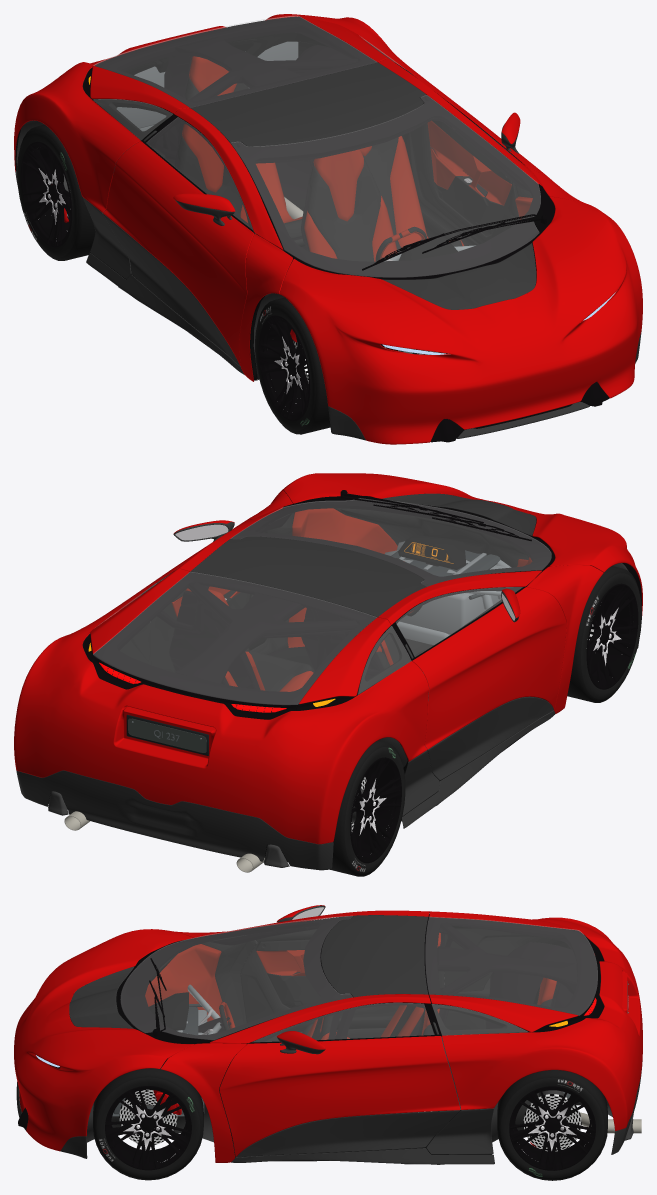
Rendered from coupe.glb.
The picture shows the model from 3 angles, top to bottom: view 1: azimuth 30°, elevation 25°; view 2: azimuth 150°, elevation 25°; view 3: azimuth 270°, elevation 25°; orthographic projection. The views are drawn at different scales.
Visible parts, largest first — view 1: glass_BodyWindshield, panel_hood.001, panel_bumper_front, glass_BodyRearwindow, panel_BodyDoorRColor1, panel_BodyRoofPanel, BodyWindshieldGasket, panel_rear_quarter_L, InteriorSeatsColor1, panel_front_fender_L, panel_BodyPillars, InteriorSeatsColor2 (+29 smaller); view 2: glass_BodyRearwindow, panel_rear_quarter_L, panel_BodyPanelsColor2, glass_BodyWindshield, panel_BodyDoorRColor1, panel_rear_quarter_R, panel_bumper_rear.001, panel_BodyRoofPanel, InteriorRearHatch, panel_BodyPillars, InteriorPillar, BodyWindshieldGasket (+29 smaller); view 3: glass_BodyWindshield, panel_BodyDoorLColor1, panel_rear_quarter_R, glass_BodyRearwindow, panel_BodyRoofPanel, panel_hood.001, panel_BodyPillars, panel_BodyDoorLColor2, BodyWindshieldGasket, panel_BodyPanelsColor2, panel_front_fender_R, WheelFrontLRim (+29 smaller).
Boxes of the visible parts, x1=… form: glass_BodyWindshield: x1=230, y1=95, x2=540, y2=277; panel_hood.001: x1=339, y1=220, x2=624, y2=390; panel_bumper_front: x1=323, y1=302, x2=642, y2=444; glass_BodyRearwindow: x1=93, y1=16, x2=376, y2=107; panel_BodyDoorRColor1: x1=103, y1=141, x2=253, y2=365; panel_BodyRoofPanel: x1=191, y1=62, x2=425, y2=146; BodyWindshieldGasket: x1=231, y1=96, x2=555, y2=279; panel_rear_quarter_L: x1=16, y1=36, x2=189, y2=193; InteriorSeatsColor1: x1=182, y1=56, x2=463, y2=261; panel_front_fender_L: x1=279, y1=259, x2=407, y2=390; panel_BodyPillars: x1=174, y1=58, x2=589, y2=381; InteriorSeatsColor2: x1=177, y1=77, x2=462, y2=261; glass_BodyRearwindow: x1=93, y1=572, x2=376, y2=704; panel_rear_quarter_L: x1=159, y1=617, x2=429, y2=801; panel_BodyPanelsColor2: x1=16, y1=642, x2=638, y2=870; glass_BodyWindshield: x1=231, y1=498, x2=551, y2=586; panel_BodyDoorRColor1: x1=412, y1=587, x2=566, y2=749; panel_rear_quarter_R: x1=16, y1=568, x2=189, y2=767; panel_bumper_rear.001: x1=14, y1=716, x2=427, y2=844; panel_BodyRoofPanel: x1=190, y1=536, x2=425, y2=617; InteriorRearHatch: x1=94, y1=572, x2=389, y2=709; panel_BodyPillars: x1=178, y1=490, x2=603, y2=713; InteriorPillar: x1=175, y1=573, x2=420, y2=683; BodyWindshieldGasket: x1=232, y1=498, x2=555, y2=586; glass_BodyWindshield: x1=120, y1=916, x2=352, y2=1039; panel_BodyDoorLColor1: x1=219, y1=1036, x2=460, y2=1156; panel_rear_quarter_R: x1=429, y1=978, x2=641, y2=1093; glass_BodyRearwindow: x1=425, y1=917, x2=597, y2=1015; panel_BodyRoofPanel: x1=321, y1=915, x2=428, y2=997; panel_hood.001: x1=15, y1=948, x2=157, y2=1091; panel_BodyPillars: x1=161, y1=910, x2=430, y2=1162; panel_BodyDoorLColor2: x1=236, y1=1110, x2=460, y2=1157; BodyWindshieldGasket: x1=116, y1=916, x2=352, y2=1044; panel_BodyPanelsColor2: x1=16, y1=1061, x2=642, y2=1164; panel_front_fender_R: x1=33, y1=1038, x2=194, y2=1114; WheelFrontLRim: x1=105, y1=1086, x2=191, y2=1170.
Size of the model in its own units: 2.27 by 1.19 by 4.24.
28 materials, 5 textured.
